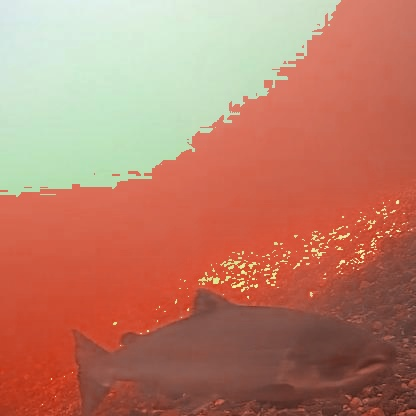salmon: (66, 282, 400, 415)
